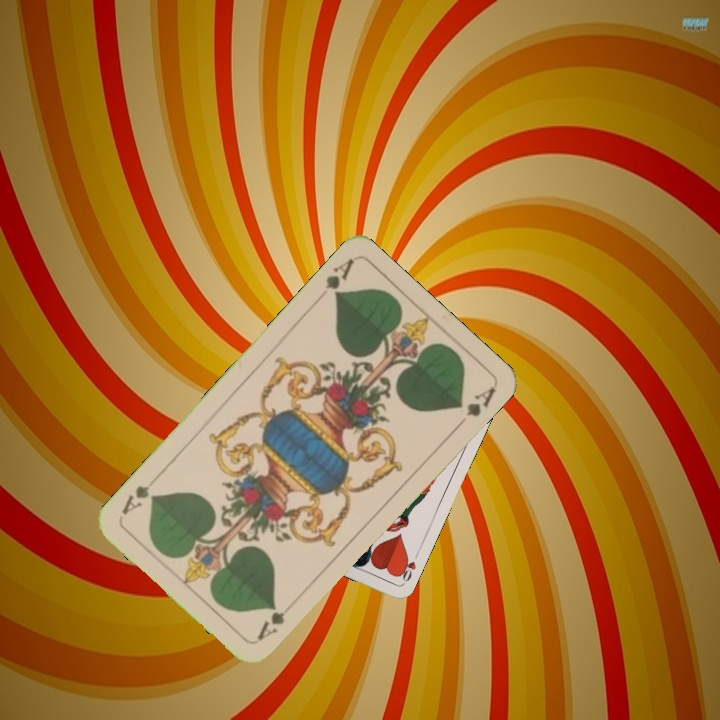GA: (321, 254, 356, 300), (253, 603, 287, 643)
HO: (394, 551, 419, 586)
